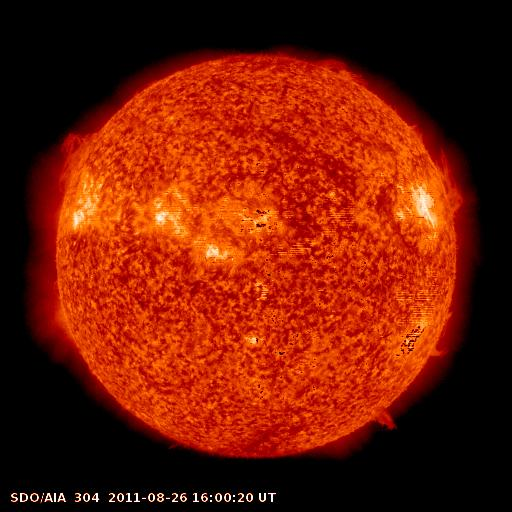prominence: (53, 125, 108, 196), (315, 48, 374, 95), (432, 145, 472, 214), (365, 402, 405, 437), (425, 338, 456, 362)
